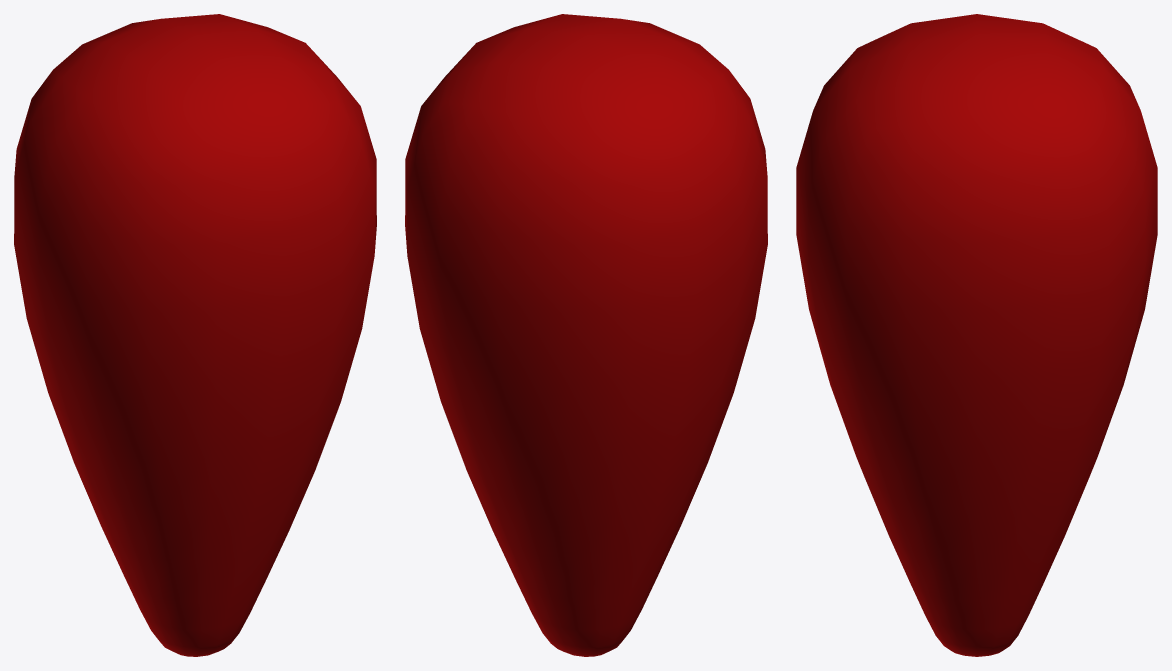
Rendered from strawberry.glb.
The picture shows the model from 3 angles, left to right: view 1: azimuth 30°, elevation 25°; view 2: azimuth 150°, elevation 25°; view 3: azimuth 270°, elevation 25°; orthographic projection.
Visible parts, largest first — view 1: strawberry; view 2: strawberry; view 3: strawberry.
Part boxes in pixels (<box>): strawberry: <box>14,14,376,656</box>; strawberry: <box>405,14,767,656</box>; strawberry: <box>796,14,1157,656</box>.
Size of the model in its own units: 0.9725 by 1.83 by 0.9725.
